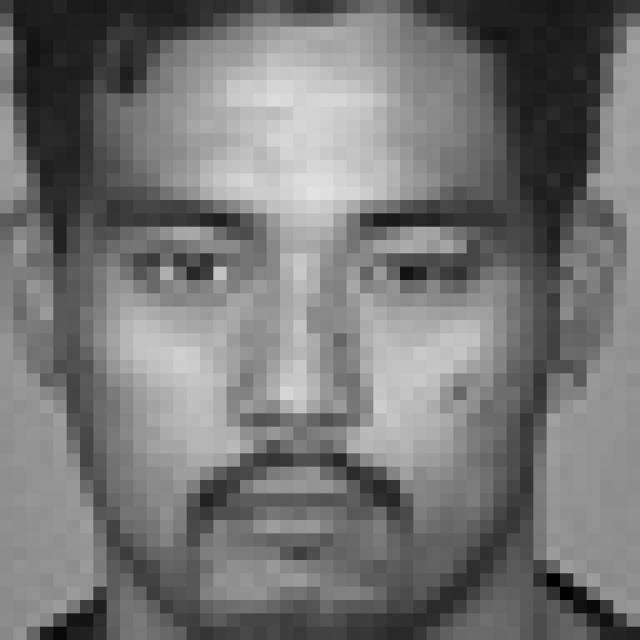neutral: (86, 182, 520, 563)
